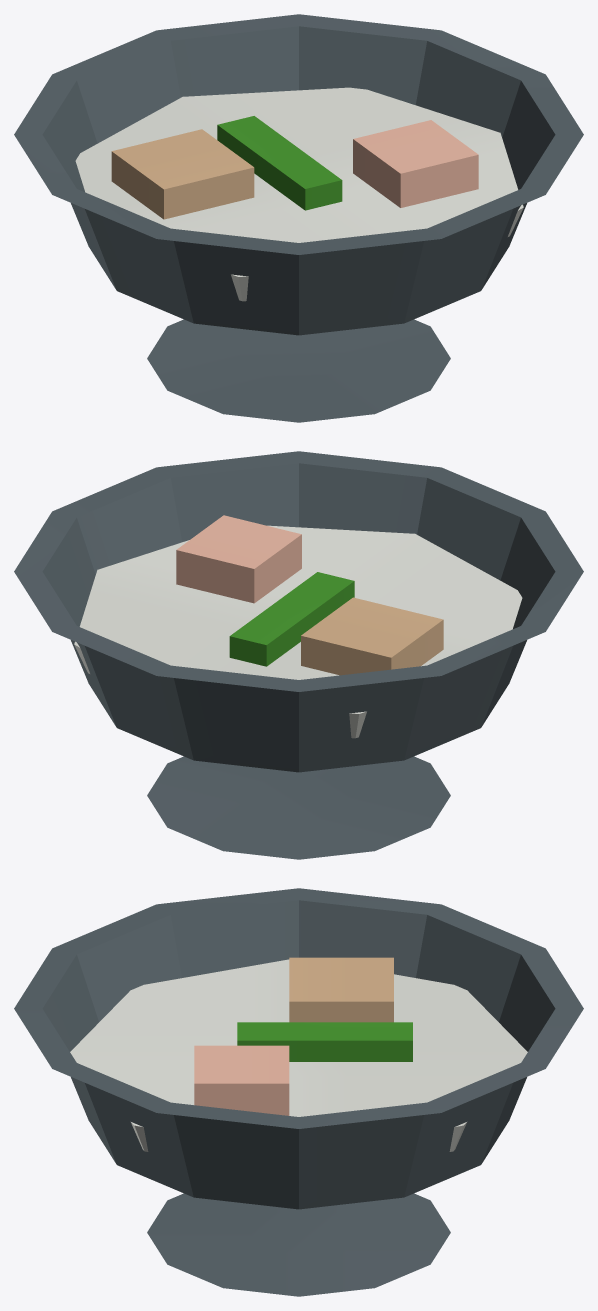
File: animal_medicine.obj
3 views of the same model, one above another, from view 1: azimuth 30°, elevation 25°; view 2: azimuth 150°, elevation 25°; view 3: azimuth 270°, elevation 25° (orthographic).
Visible parts, largest first — view 1: open_wooden_medicine_bowl_and_visible_herbal_contents; view 2: open_wooden_medicine_bowl_and_visible_herbal_contents; view 3: open_wooden_medicine_bowl_and_visible_herbal_contents.
Boxes of the visible parts, bbox=[...] form: open_wooden_medicine_bowl_and_visible_herbal_contents: bbox=[14, 14, 583, 422]; open_wooden_medicine_bowl_and_visible_herbal_contents: bbox=[14, 451, 583, 859]; open_wooden_medicine_bowl_and_visible_herbal_contents: bbox=[14, 888, 583, 1296].
Size of the model in its own units: 0.375 by 0.1625 by 0.375.
